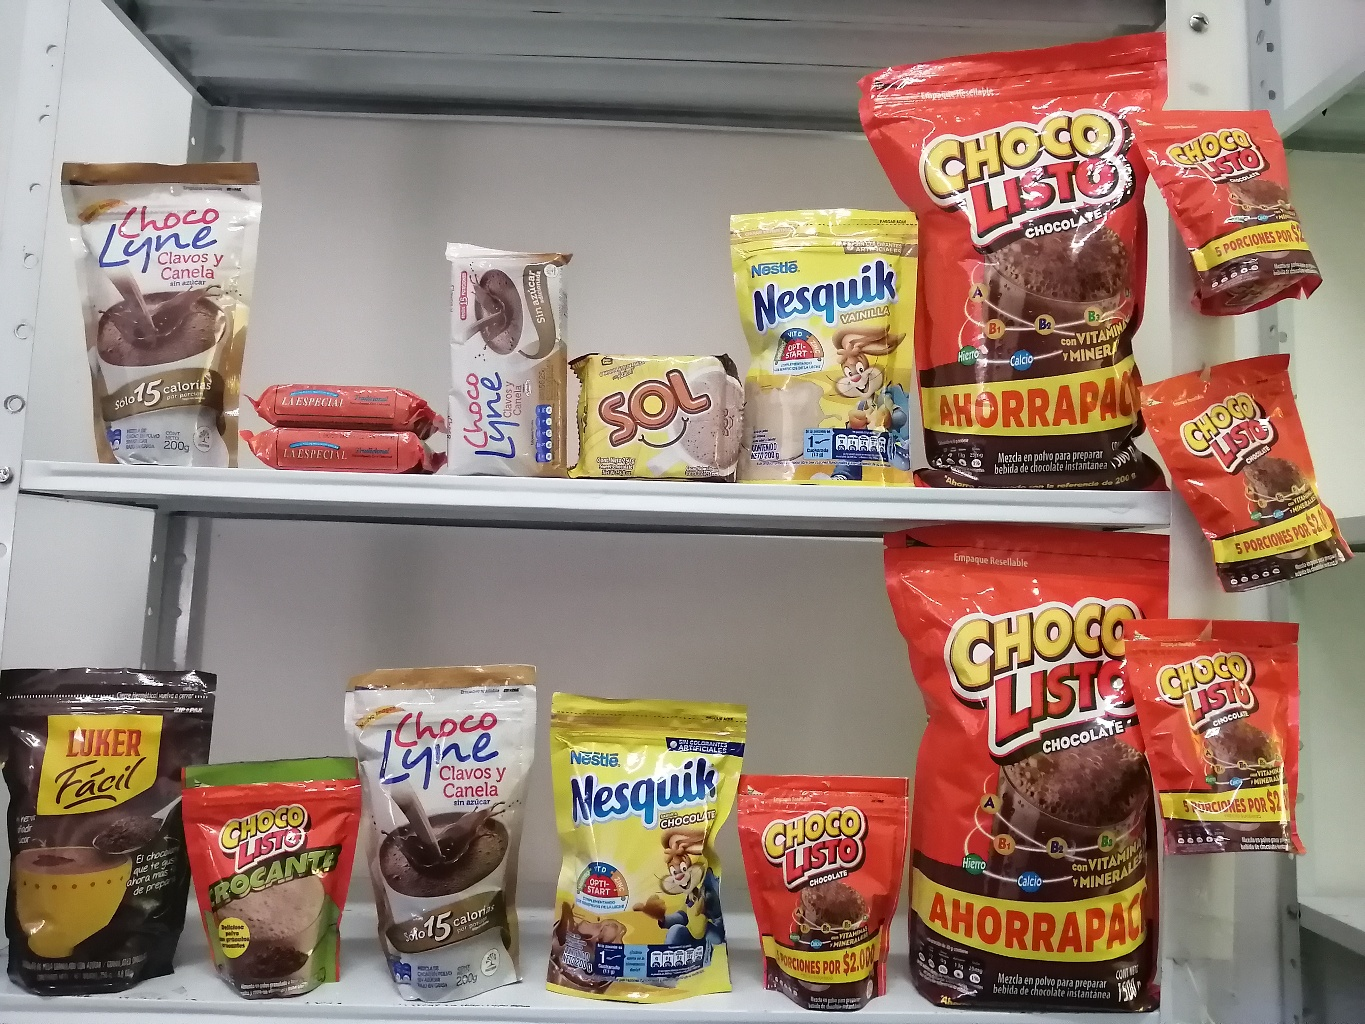COL0170102DYP10000: (173, 744, 369, 1012)
COL0170103DYP1,500: (850, 507, 1212, 1012)
COL0170303DYP20000: (531, 667, 747, 1010)
COL0170306DYP20000: (714, 184, 937, 490)
